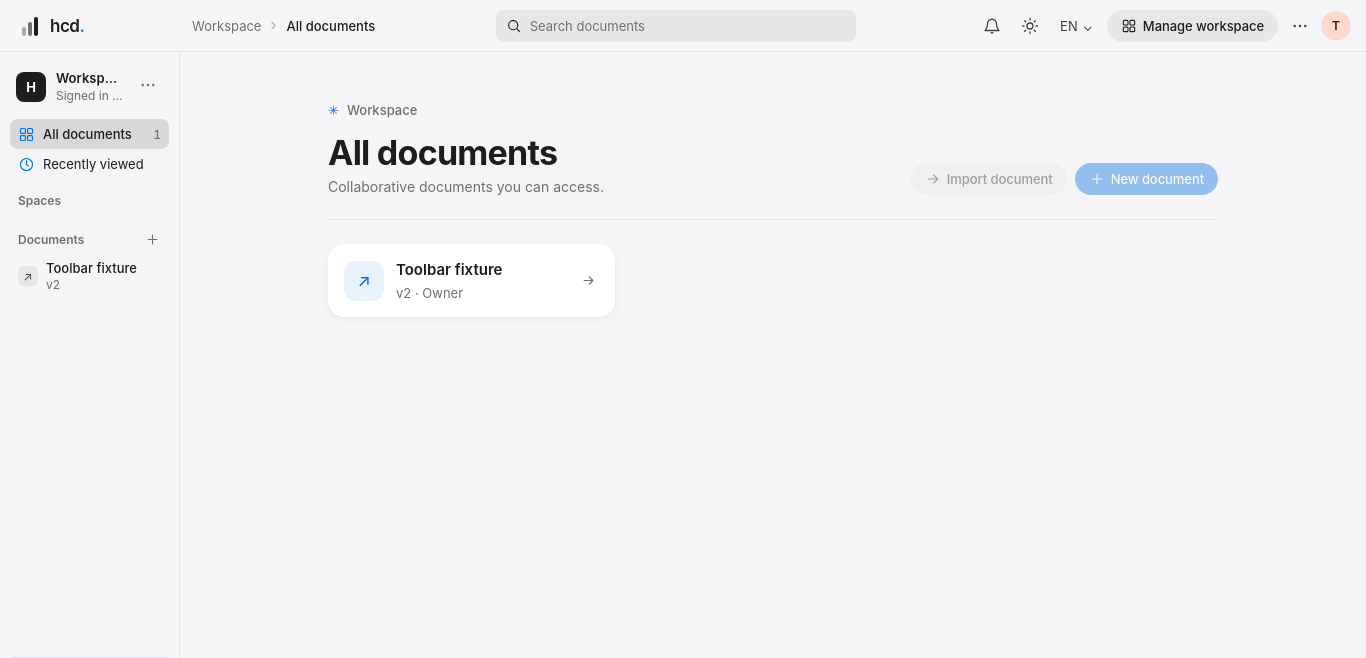
Test: C2 Share opens the share dialog through its document settings route
Click the button with class "doc-card": (472, 280) 328,244 -> 615,317
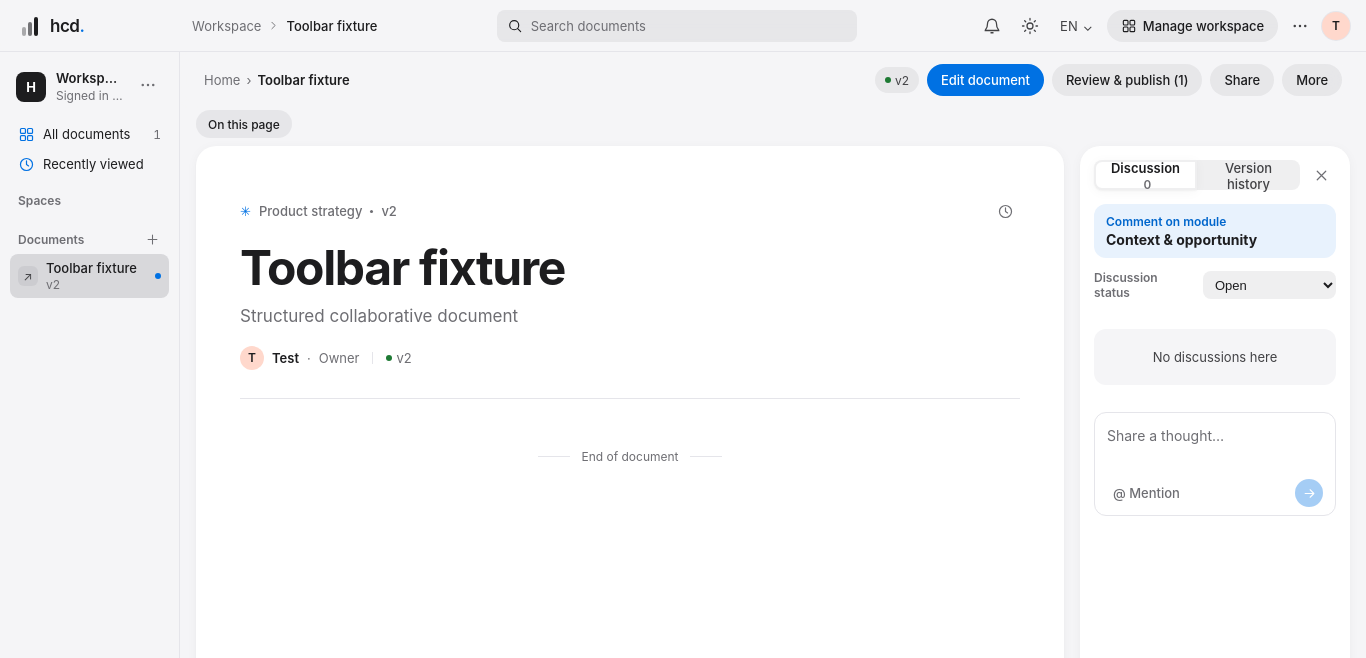
Click the button "Share": (1242, 80) 1210,64 -> 1274,96
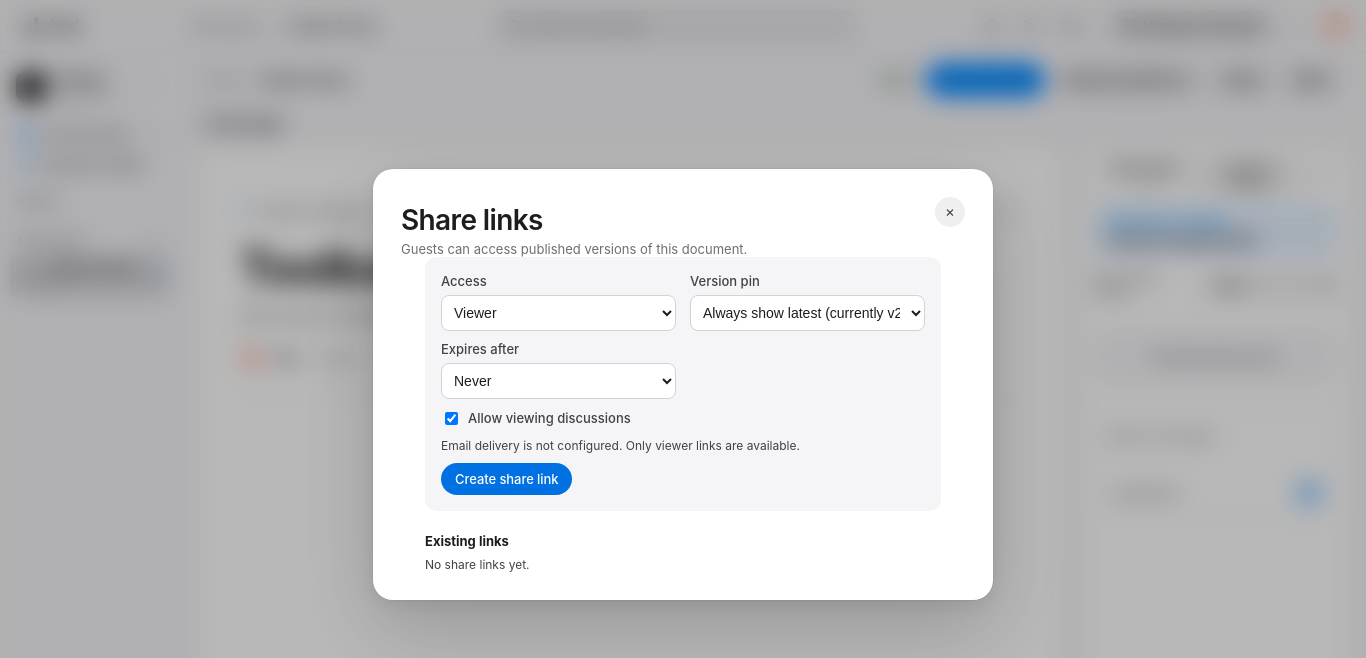
Expected: the dialog with class "share-links-modal" is shown, 373,168 -> 993,600
